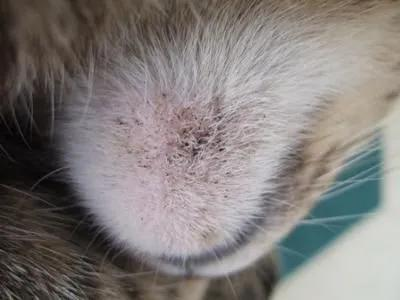acne: (115, 85, 240, 202)
